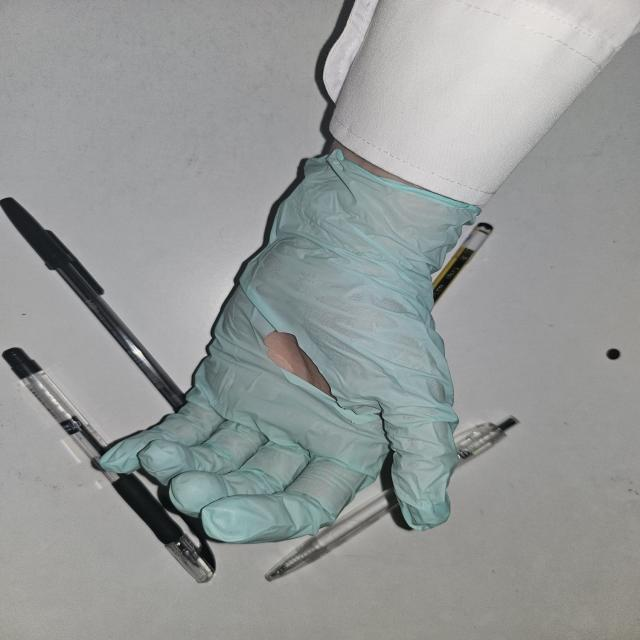gloves_damaged: (94, 146, 487, 544)
